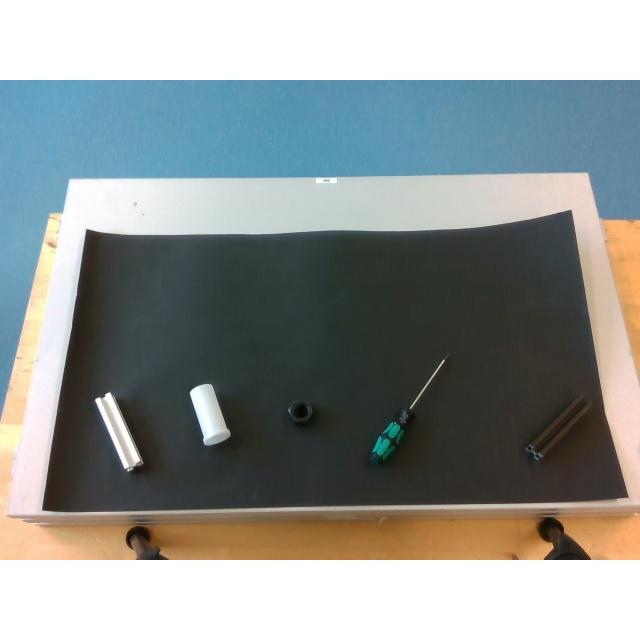F20_20_B: (523, 396, 593, 460)
F20_20_G: (95, 393, 142, 471)
M20: (288, 400, 312, 424)
Screwdriver: (369, 352, 449, 463)
Spacer: (190, 384, 230, 444)
